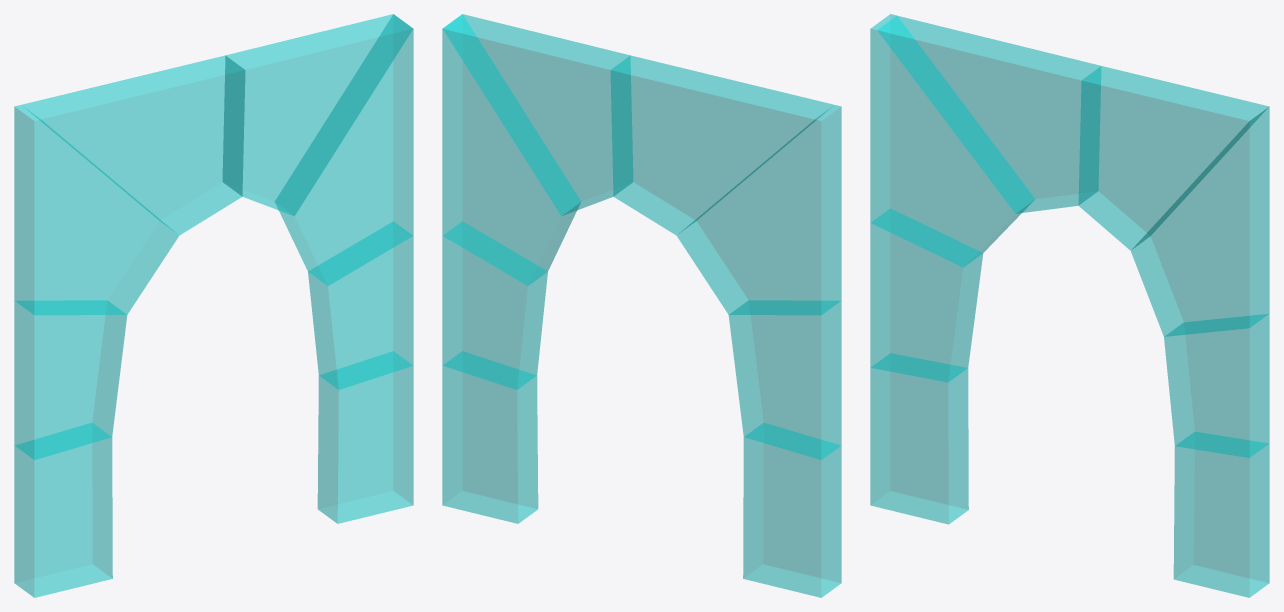
Rendered from SM_Bld_Wall_Arch_02_Collision_01.fbx.
The picture shows the model from 3 angles, left to right: view 1: azimuth 30°, elevation 25°; view 2: azimuth 150°, elevation 25°; view 3: azimuth 330°, elevation 25°; orthographic projection.
Parts seen in each view (by area): view 1: SM_Bld_Wall_Arch_02_Collision_01; view 2: SM_Bld_Wall_Arch_02_Collision_01; view 3: SM_Bld_Wall_Arch_02_Collision_01.
Part boxes in pixels (x1=…): SM_Bld_Wall_Arch_02_Collision_01: x1=14, y1=14, x2=413, y2=597; SM_Bld_Wall_Arch_02_Collision_01: x1=442, y1=14, x2=841, y2=597; SM_Bld_Wall_Arch_02_Collision_01: x1=870, y1=14, x2=1269, y2=597.
Size of the model in its own units: 250 by 301 by 22.86.
